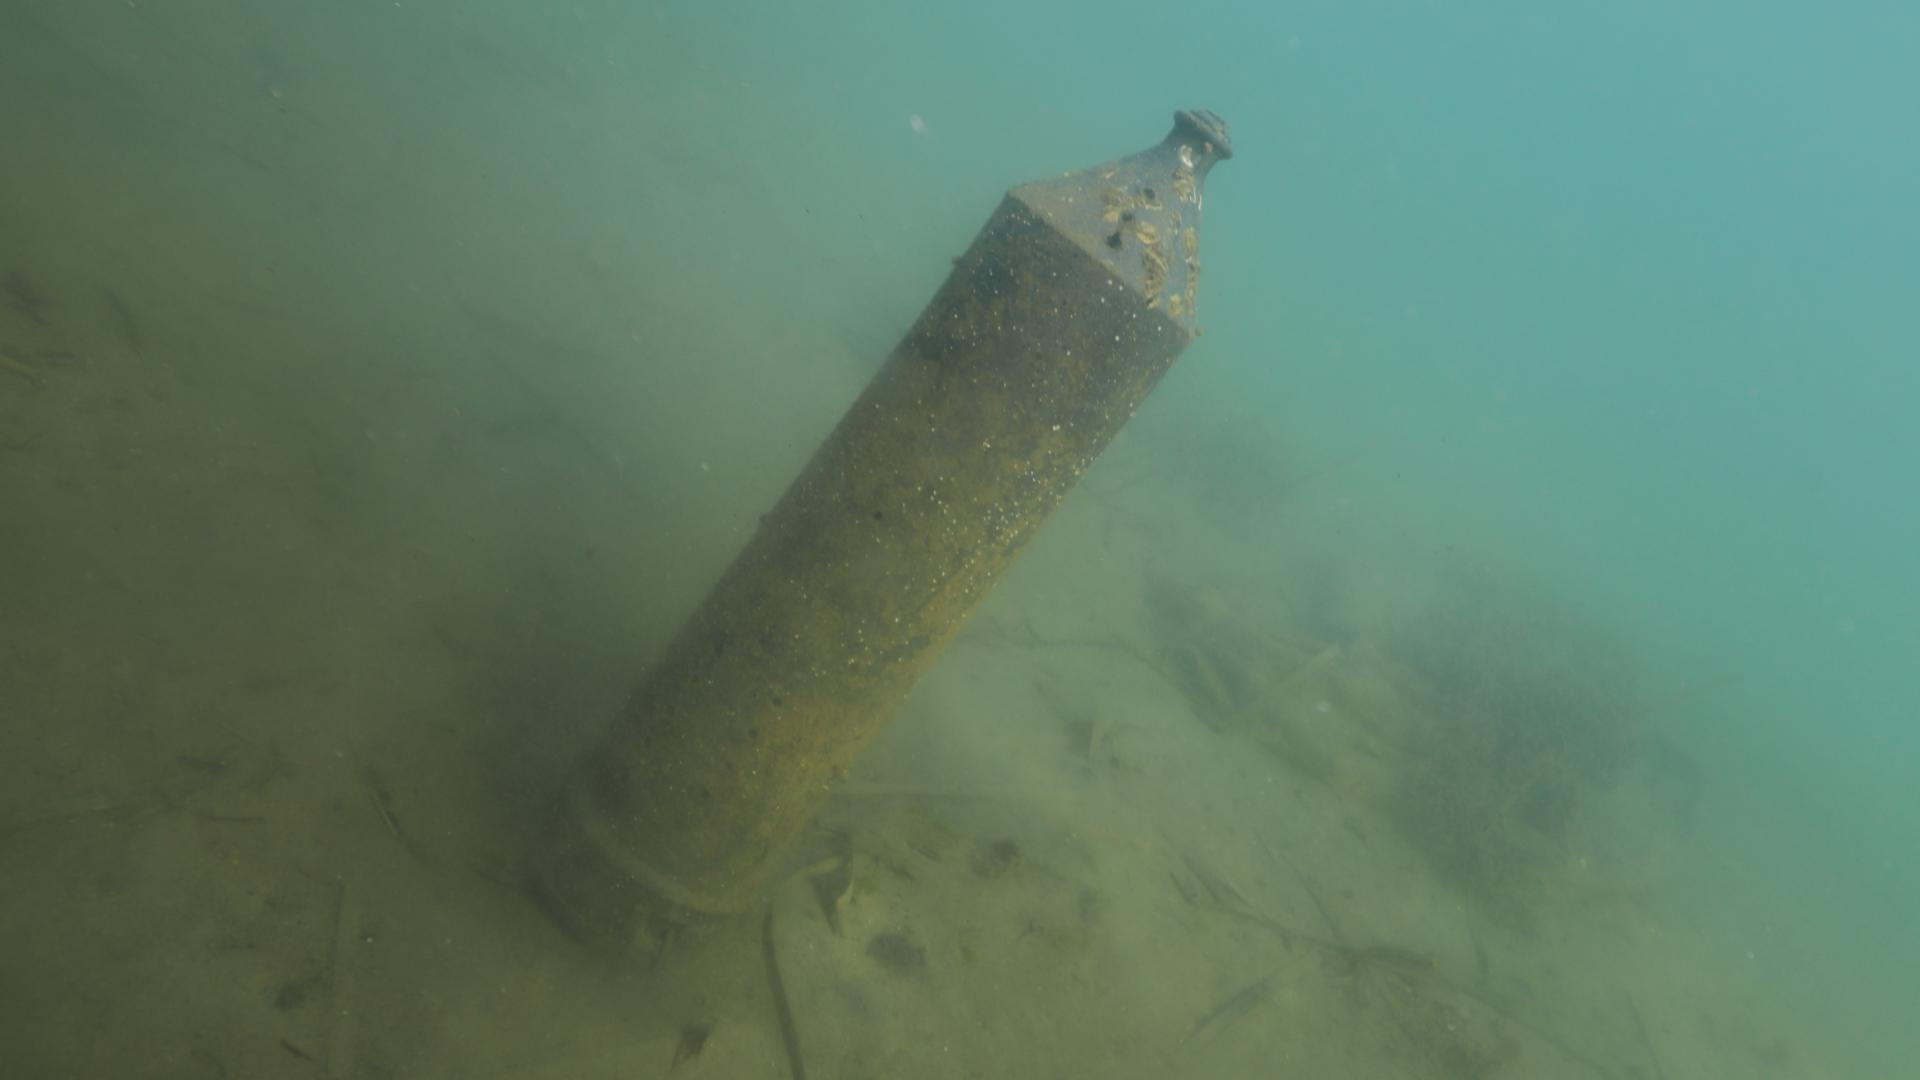eel fish trap: (512, 108, 1230, 980)
